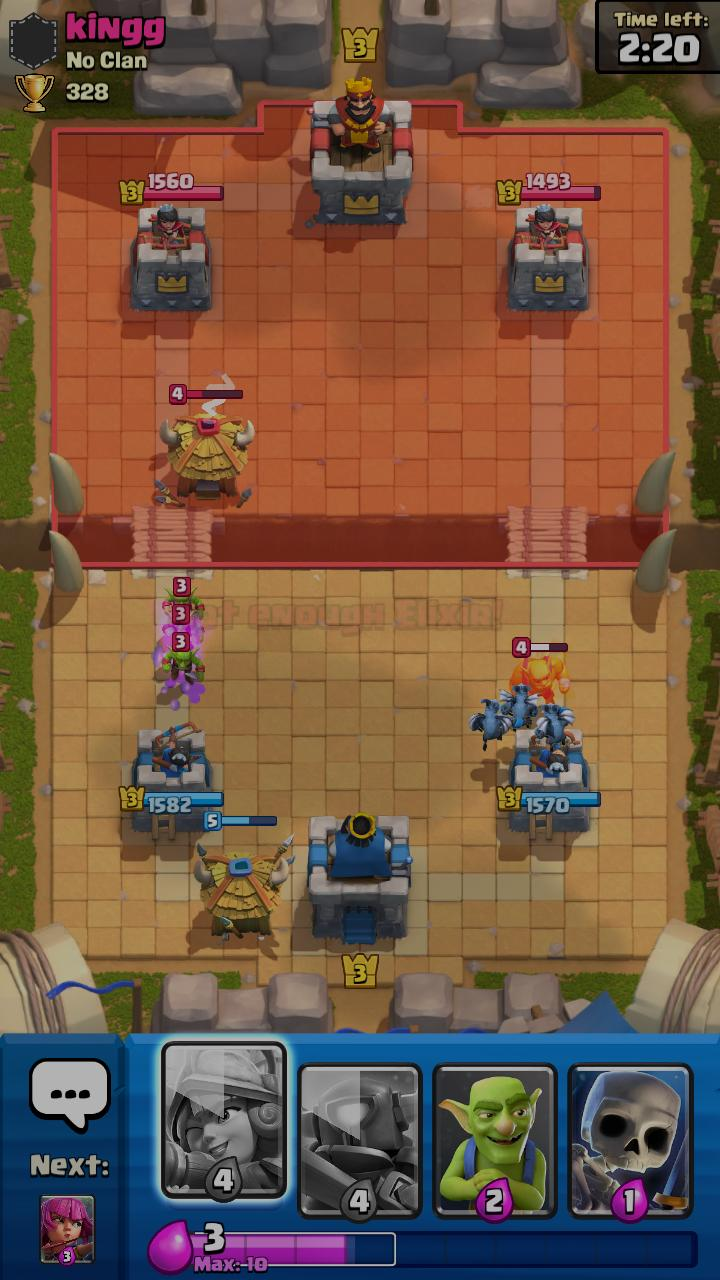ally: (469, 699, 513, 752), (498, 684, 541, 732), (534, 703, 576, 752)
enemy: (153, 384, 255, 508), (509, 637, 570, 705), (161, 632, 205, 685), (162, 577, 205, 621), (162, 604, 205, 645)
